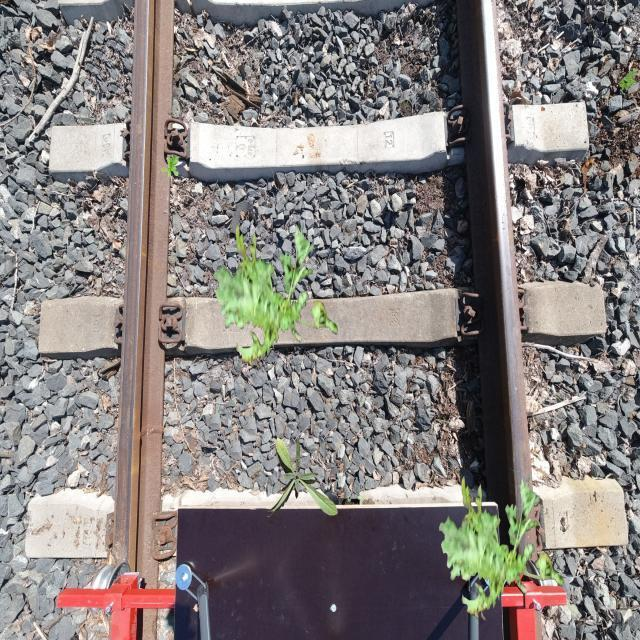Plant: (439, 474, 564, 621), (213, 222, 338, 369), (266, 437, 338, 518), (619, 68, 638, 92), (161, 154, 178, 178)
